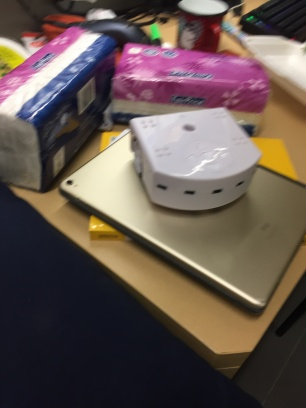thymio: (114, 103, 265, 218)
